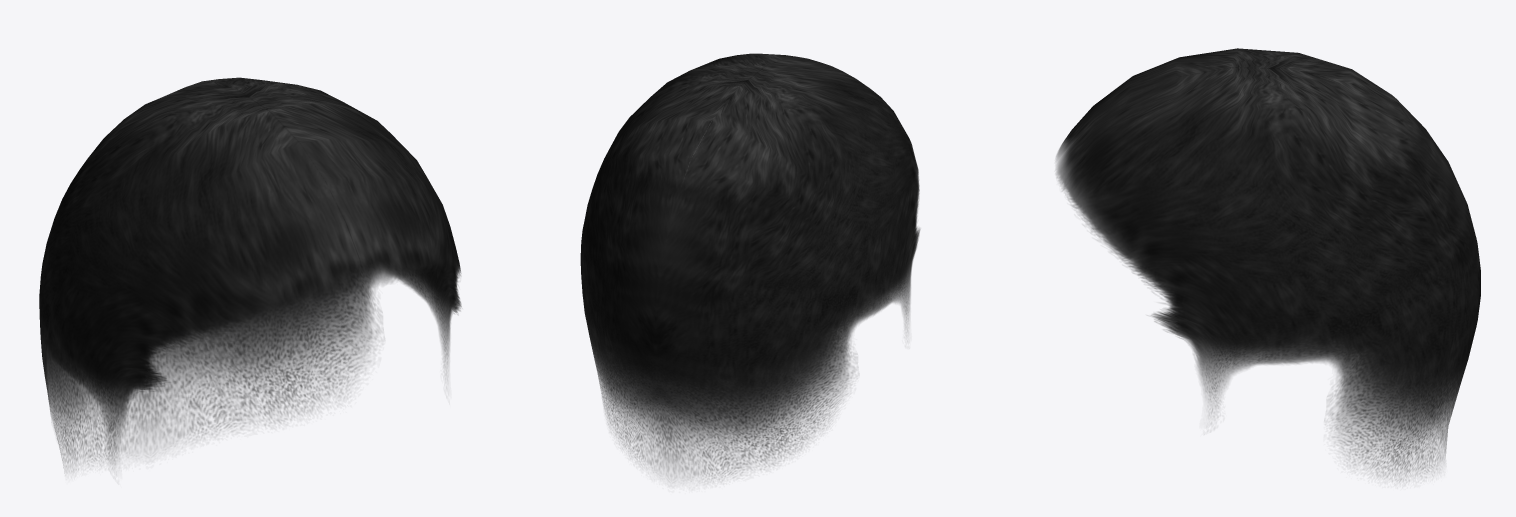
File: diamond_wavy_01 FrenchCrop.glb
The picture shows the model from 3 angles, left to right: view 1: azimuth 30°, elevation 25°; view 2: azimuth 150°, elevation 25°; view 3: azimuth 270°, elevation 25°; orthographic projection. The views are drawn at different scales.
Visible parts, largest first — view 1: Scalp.022; view 2: Scalp.022; view 3: Scalp.022.
Part boxes in pixels (x1=…): Scalp.022: x1=39, y1=77, x2=461, y2=471; Scalp.022: x1=580, y1=53, x2=920, y2=480; Scalp.022: x1=1056, y1=48, x2=1480, y2=481.
Bounding box in the file's own units: 0.2051 × 0.2399 × 0.249.
Materials: 2 (2 with a texture image).
